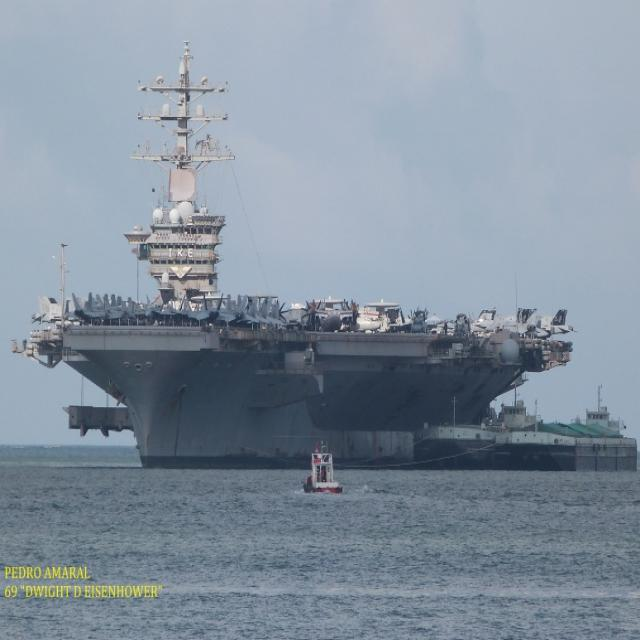Portanaves: (13, 47, 576, 488)
